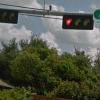Traffic light: (56, 9, 100, 44)
